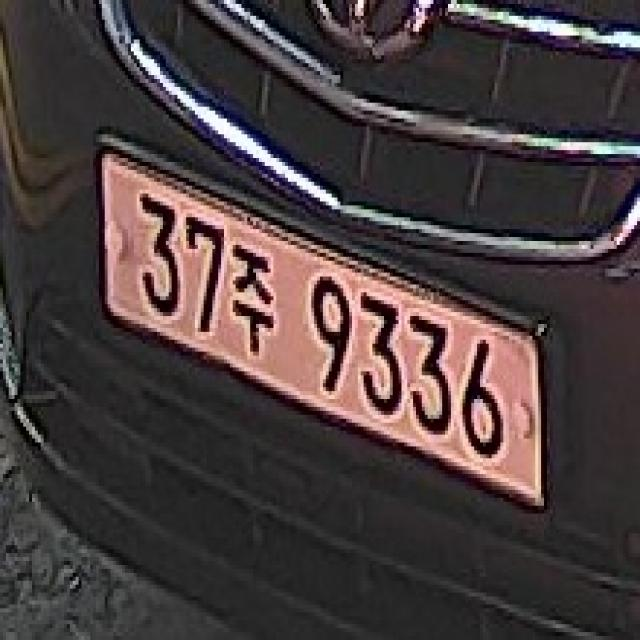3: (134, 190, 183, 328), (407, 308, 454, 439), (361, 288, 404, 423)
6: (457, 332, 503, 458)
7: (186, 213, 227, 336)
9: (311, 269, 352, 395)
ju: (230, 245, 276, 355)
license_plate: (96, 138, 550, 510)
